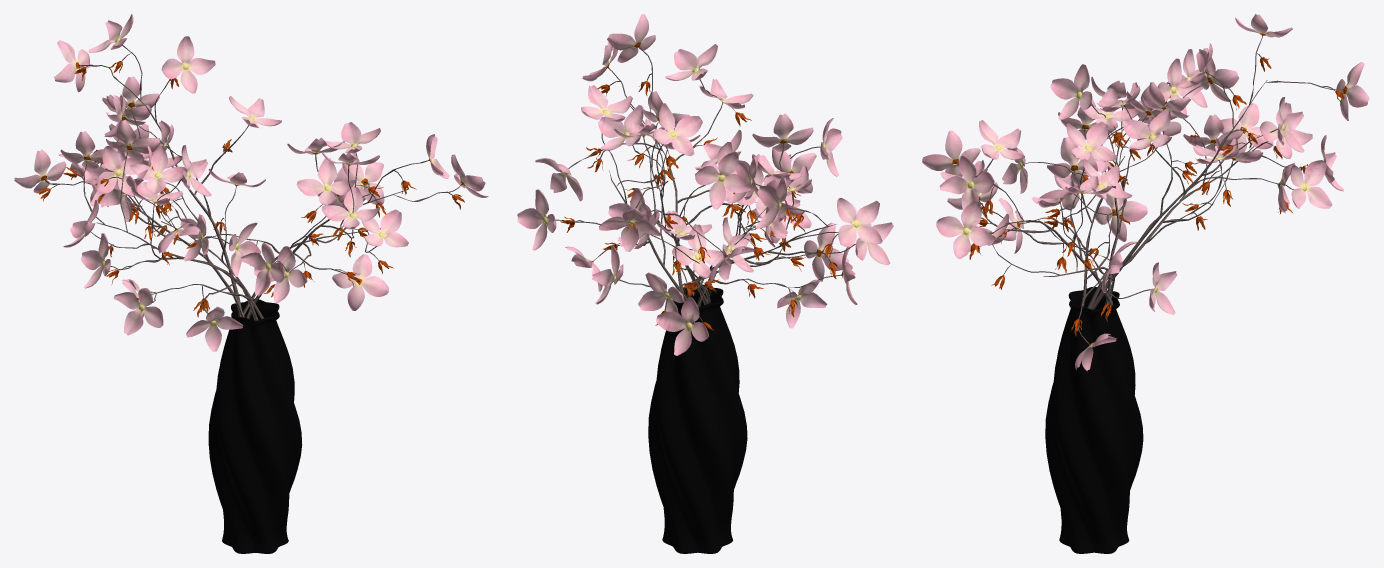
The picture shows the model from 3 angles, left to right: view 1: azimuth 30°, elevation 25°; view 2: azimuth 150°, elevation 25°; view 3: azimuth 270°, elevation 25°; orthographic projection. The views are drawn at different scales.
Visible parts, largest first — view 1: GrowFX01, Plane01; view 2: GrowFX01, Plane01; view 3: GrowFX01, Plane01.
Boxes of the visible parts, x1,y1,x2,y2 form: GrowFX01: [14, 14, 488, 351]; Plane01: [208, 298, 302, 553]; GrowFX01: [517, 14, 893, 355]; Plane01: [648, 284, 747, 553]; GrowFX01: [922, 14, 1369, 370]; Plane01: [1045, 287, 1143, 553].
Size of the model in its own units: 0.4959 by 0.65 by 0.5233.
Materials: 4 (3 with a texture image).
